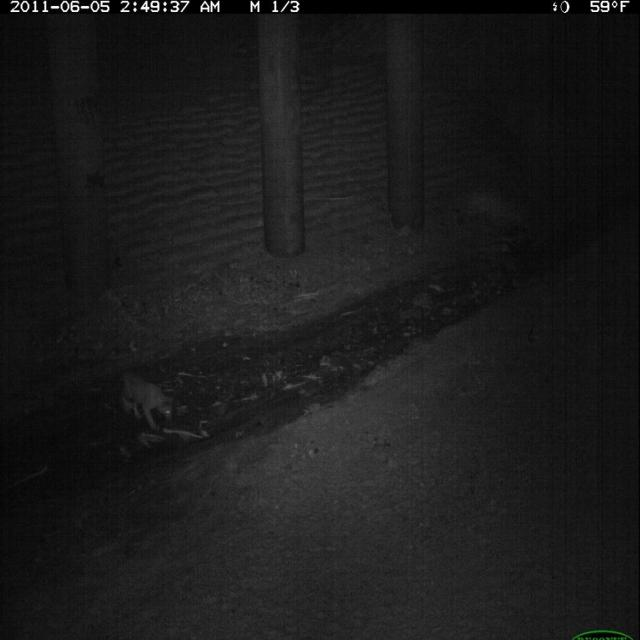bobcat: (118, 364, 180, 437)
